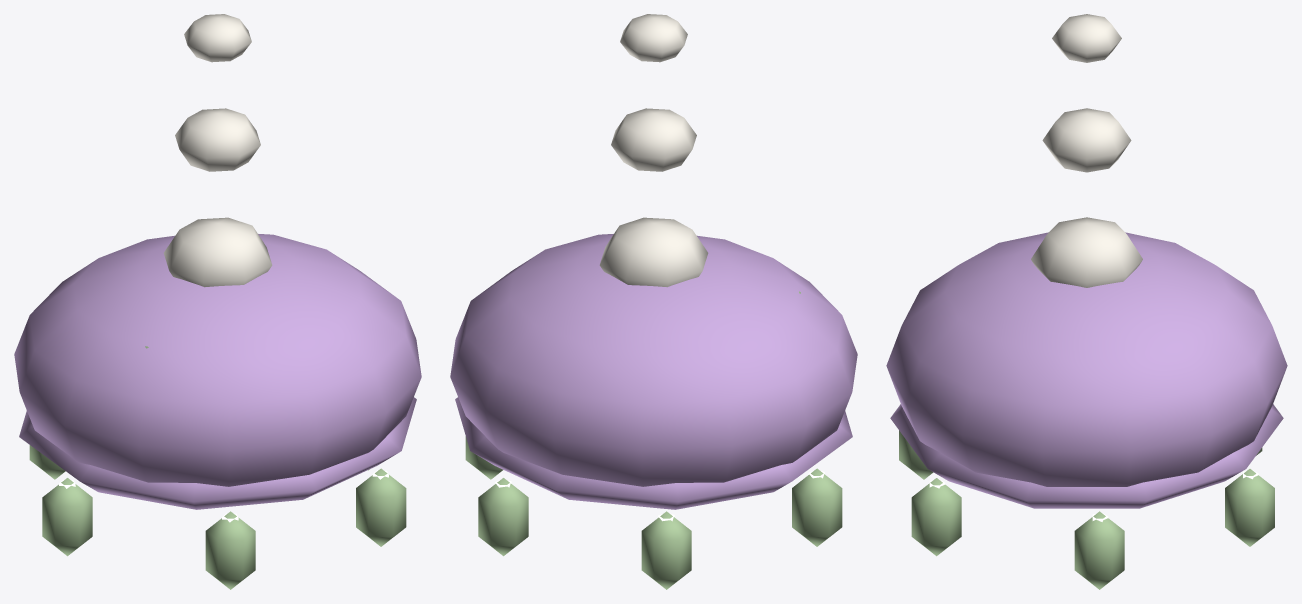
The model's file is plague_mother_idle.fbx.
The picture shows the model from 3 angles, left to right: view 1: azimuth 30°, elevation 25°; view 2: azimuth 150°, elevation 25°; view 3: azimuth 270°, elevation 25°; orthographic projection.
Visible parts, largest first — view 1: Body_plague_mother; view 2: Body_plague_mother; view 3: Body_plague_mother.
Part boxes in pixels (x1,y1,x2,y2): Body_plague_mother: [14, 14, 421, 589]; Body_plague_mother: [450, 14, 857, 589]; Body_plague_mother: [886, 14, 1287, 589].
Size of the model in its own units: 297 by 399 by 293.
